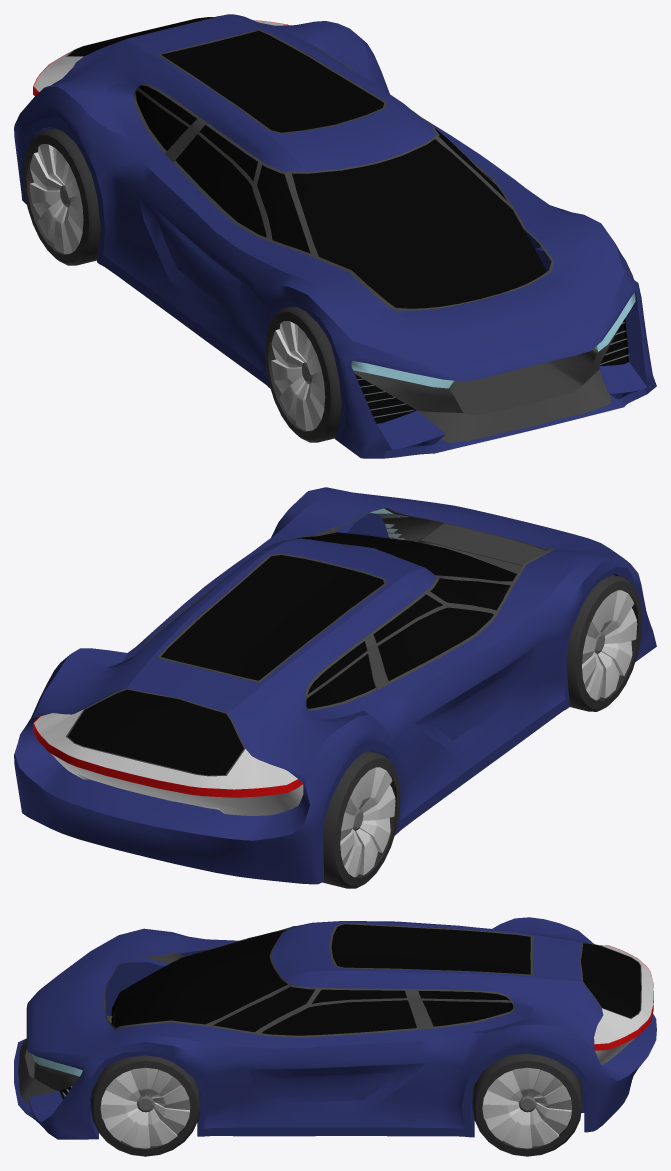
Rendered from Audi.glb.
3 views of the same model, one above another, from view 1: azimuth 30°, elevation 25°; view 2: azimuth 150°, elevation 25°; view 3: azimuth 270°, elevation 25° (orthographic). The views are drawn at different scales.
Bounding box in the file's own units: 6.85 × 4.02 × 15.38.
